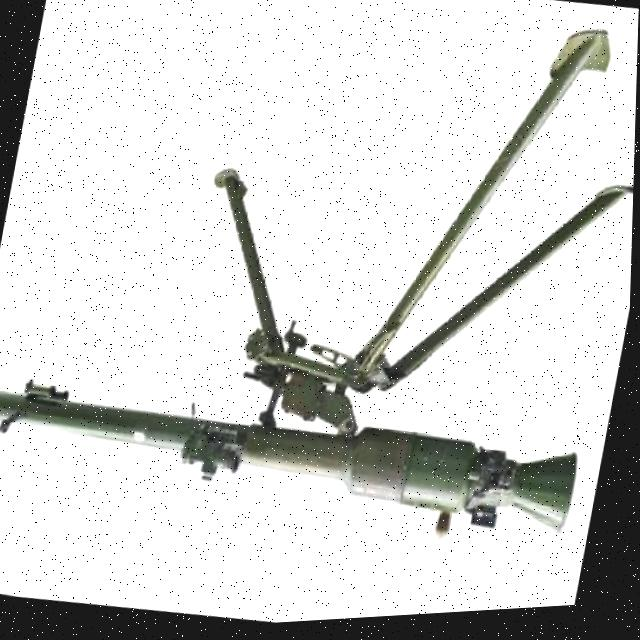rocket: (0, 324, 593, 587)
